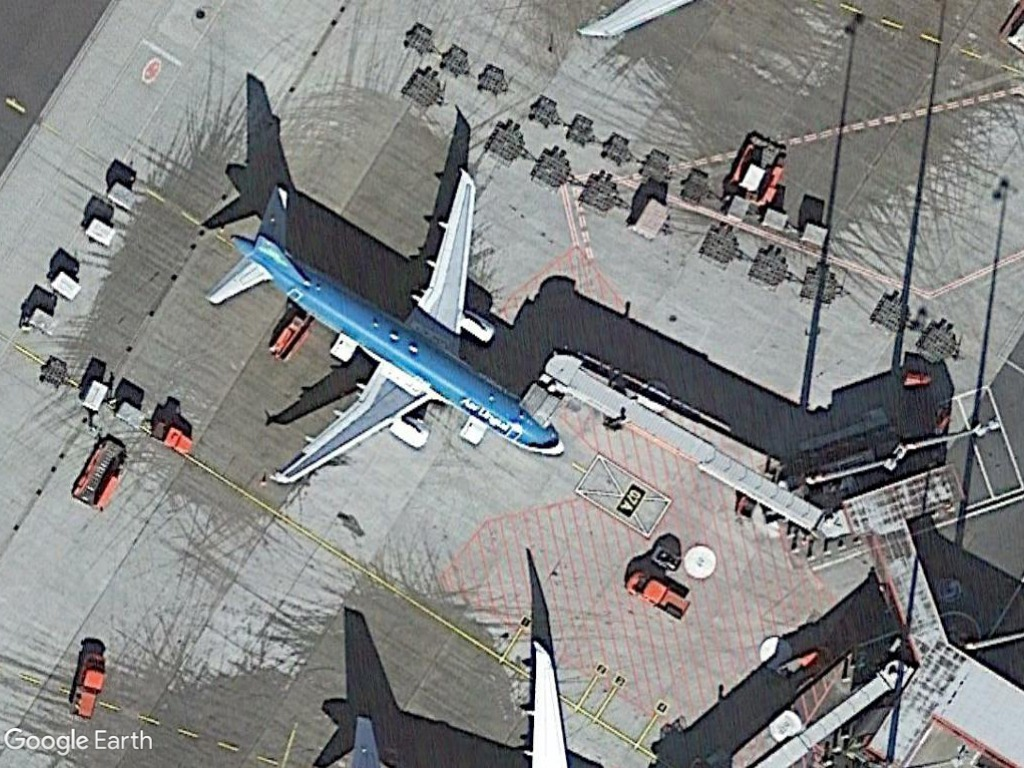airliner: (198, 161, 573, 490)
pushbacktruck: (69, 438, 132, 512)
